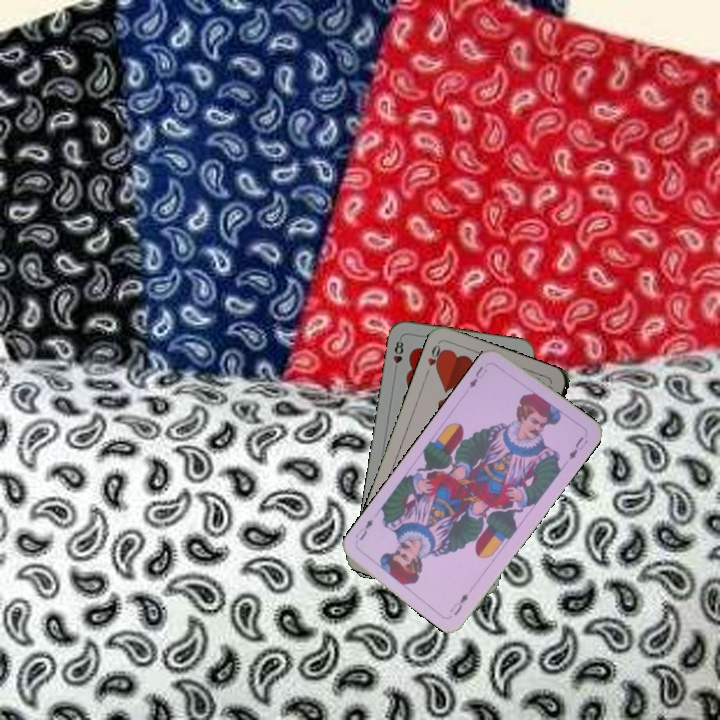EU: (465, 362, 490, 391), (446, 589, 471, 618)
H8: (389, 334, 406, 375)
HO: (421, 339, 447, 378)
